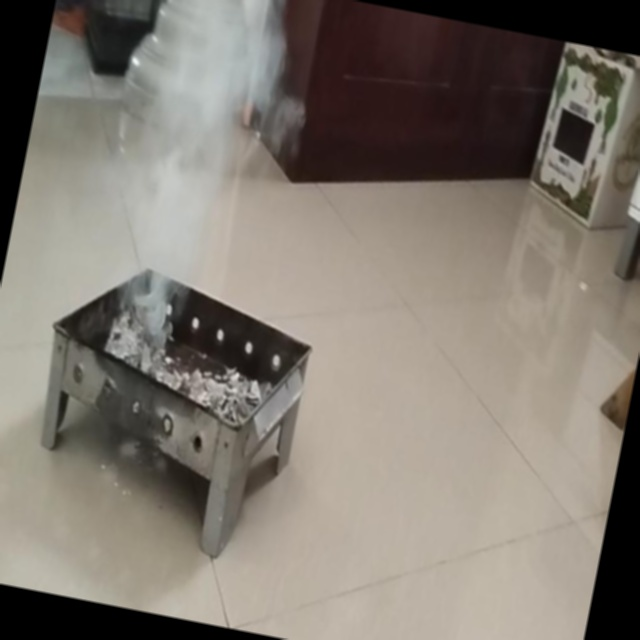smoke: (66, 0, 324, 394)
